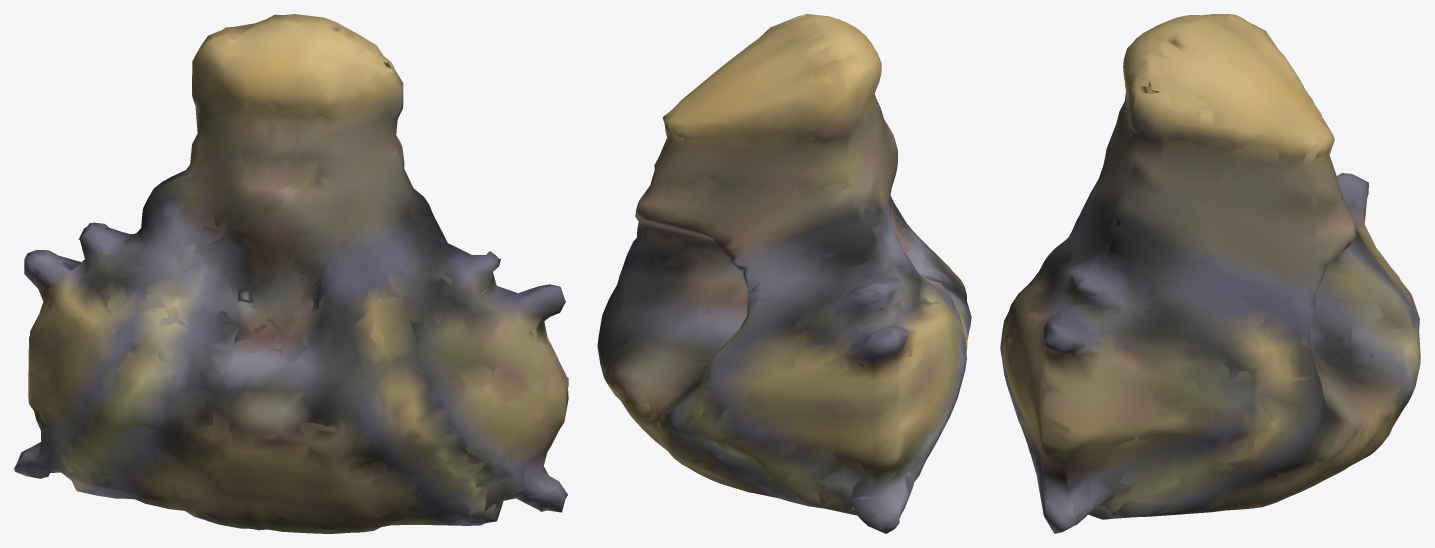
File: yuri_gattling_cannon.glb
The picture shows the model from 3 angles, left to right: view 1: azimuth 30°, elevation 25°; view 2: azimuth 150°, elevation 25°; view 3: azimuth 270°, elevation 25°; orthographic projection. The views are drawn at different scales.
Visible parts, largest first — view 1: yuri_gatling_cannon; view 2: yuri_gatling_cannon; view 3: yuri_gatling_cannon.
Boxes of the visible parts, x1,y1,x2,y2 form: yuri_gatling_cannon: [14, 14, 568, 533]; yuri_gatling_cannon: [597, 14, 971, 533]; yuri_gatling_cannon: [1000, 14, 1420, 533].
Bounding box in the file's own units: 1.83 × 2.09 × 1.85.
